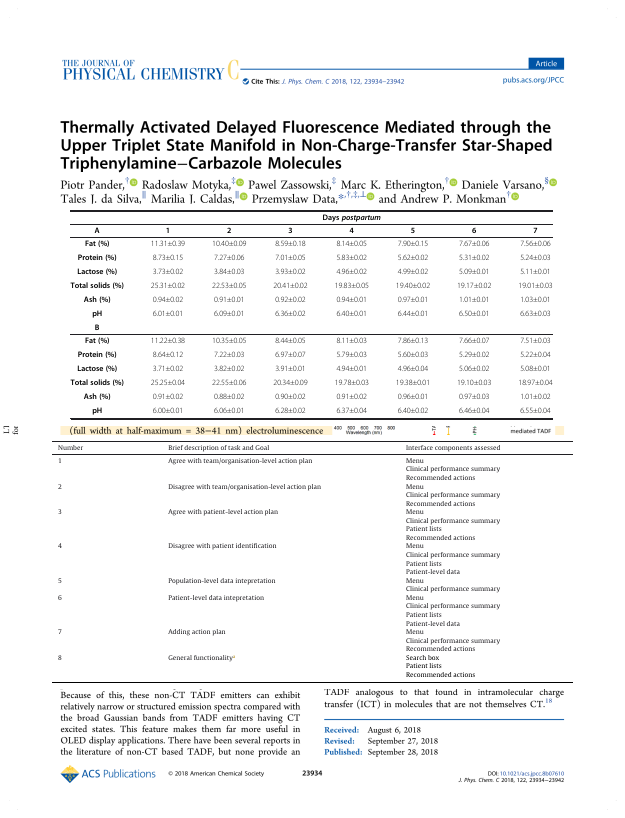borderless: (51, 440, 573, 682), (70, 209, 552, 418)
cell: (404, 509, 500, 543), (404, 543, 500, 577), (404, 595, 500, 629), (404, 483, 500, 509), (404, 458, 500, 483), (404, 629, 500, 654), (404, 655, 476, 680), (404, 577, 500, 594), (167, 483, 321, 492), (167, 458, 313, 466), (167, 543, 277, 552), (167, 577, 276, 586), (167, 444, 270, 453), (167, 509, 278, 517), (404, 444, 501, 453), (167, 595, 264, 603), (167, 654, 236, 663), (70, 281, 125, 291), (70, 378, 125, 388), (322, 213, 382, 222), (167, 629, 226, 637), (76, 267, 118, 277), (76, 364, 118, 374), (77, 253, 117, 263), (77, 350, 117, 360), (83, 295, 111, 305), (83, 392, 111, 402), (84, 239, 110, 249), (84, 336, 110, 346), (56, 444, 84, 453), (150, 240, 186, 247), (211, 240, 247, 247), (150, 282, 186, 289), (211, 282, 247, 289), (272, 282, 308, 289), (334, 282, 370, 289), (395, 282, 431, 289), (456, 282, 492, 289), (517, 282, 553, 289), (150, 337, 186, 344), (211, 337, 247, 344), (150, 379, 186, 386), (211, 379, 247, 386), (272, 379, 308, 386), (334, 379, 370, 386), (395, 379, 431, 386), (456, 379, 492, 386), (517, 379, 553, 386), (274, 240, 307, 247), (335, 240, 368, 247), (519, 240, 552, 247), (274, 254, 307, 261), (335, 254, 368, 261), (519, 254, 552, 261), (274, 268, 307, 275), (335, 268, 368, 275), (519, 268, 552, 275), (274, 296, 307, 303), (335, 296, 368, 303), (519, 296, 552, 303), (274, 310, 307, 317), (335, 310, 368, 317), (519, 310, 552, 317), (274, 337, 307, 344), (335, 337, 368, 344), (519, 337, 552, 344), (274, 351, 307, 358), (335, 351, 368, 358), (519, 351, 552, 358), (274, 365, 307, 372), (335, 365, 368, 372), (519, 365, 552, 372), (274, 393, 307, 400), (335, 393, 368, 400), (519, 393, 552, 400), (274, 407, 307, 414), (335, 407, 368, 414), (519, 407, 552, 414), (397, 240, 429, 247), (458, 240, 490, 247), (152, 254, 184, 261), (213, 254, 245, 261), (397, 254, 429, 261), (458, 254, 490, 261), (152, 268, 184, 275), (213, 268, 245, 275), (397, 268, 429, 275), (458, 268, 490, 275), (152, 296, 184, 303), (213, 296, 245, 303), (397, 296, 429, 303), (458, 296, 490, 303), (152, 310, 184, 317), (213, 310, 245, 317), (397, 310, 429, 317), (458, 310, 490, 317), (397, 337, 429, 344), (458, 337, 490, 344), (152, 351, 184, 358), (213, 351, 245, 358), (397, 351, 429, 358), (458, 351, 490, 358), (152, 365, 184, 372), (213, 365, 245, 372), (397, 365, 429, 372), (458, 365, 490, 372), (152, 393, 184, 400), (213, 393, 245, 400), (397, 393, 429, 400), (458, 393, 490, 400), (152, 407, 184, 414), (213, 407, 245, 414), (397, 407, 429, 414), (458, 407, 490, 414), (91, 309, 103, 319), (91, 406, 103, 416), (94, 226, 101, 236), (348, 226, 355, 236), (165, 226, 171, 236), (226, 226, 232, 236), (287, 226, 293, 236), (410, 226, 416, 236), (471, 226, 477, 236), (532, 226, 538, 236), (94, 323, 100, 333), (56, 483, 62, 492), (56, 543, 62, 552), (56, 577, 62, 586), (56, 458, 62, 466), (56, 509, 62, 517), (56, 595, 62, 603), (56, 629, 62, 637), (56, 655, 62, 663)
